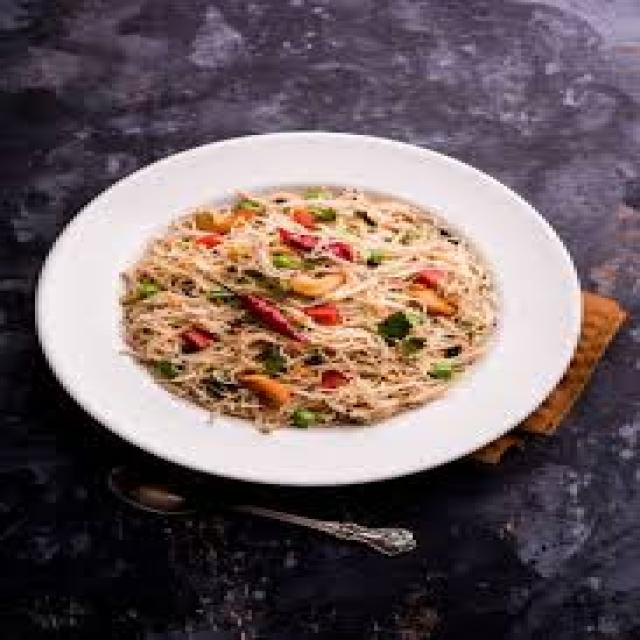POHA: (115, 186, 490, 424)
